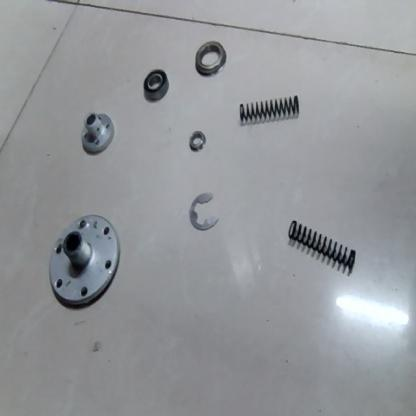FOD: (45, 209, 123, 312), (286, 217, 362, 280), (234, 91, 302, 124), (77, 108, 115, 157), (185, 192, 223, 234), (193, 38, 228, 79), (139, 66, 170, 106), (186, 128, 208, 153)
